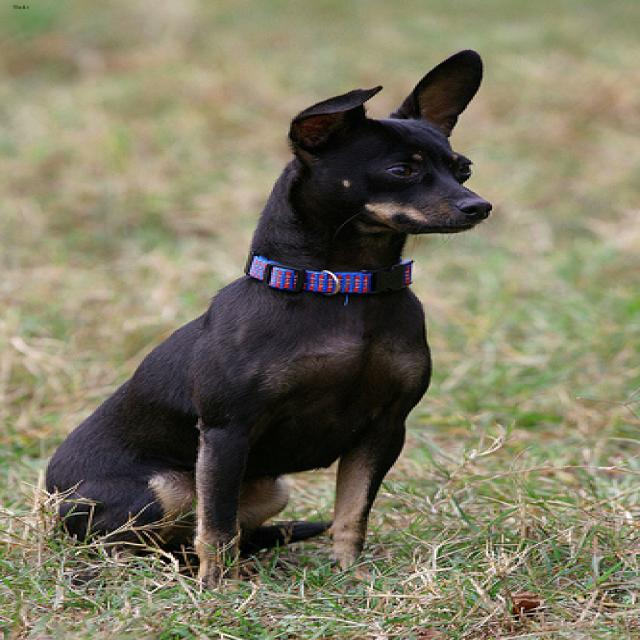dog-chihuahua: (17, 41, 505, 594)
